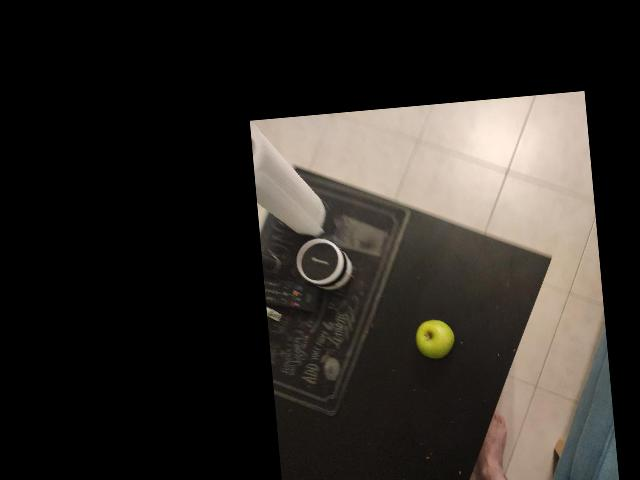apple: (473, 242, 536, 305)
